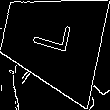L_W: (29, 20, 75, 62)
